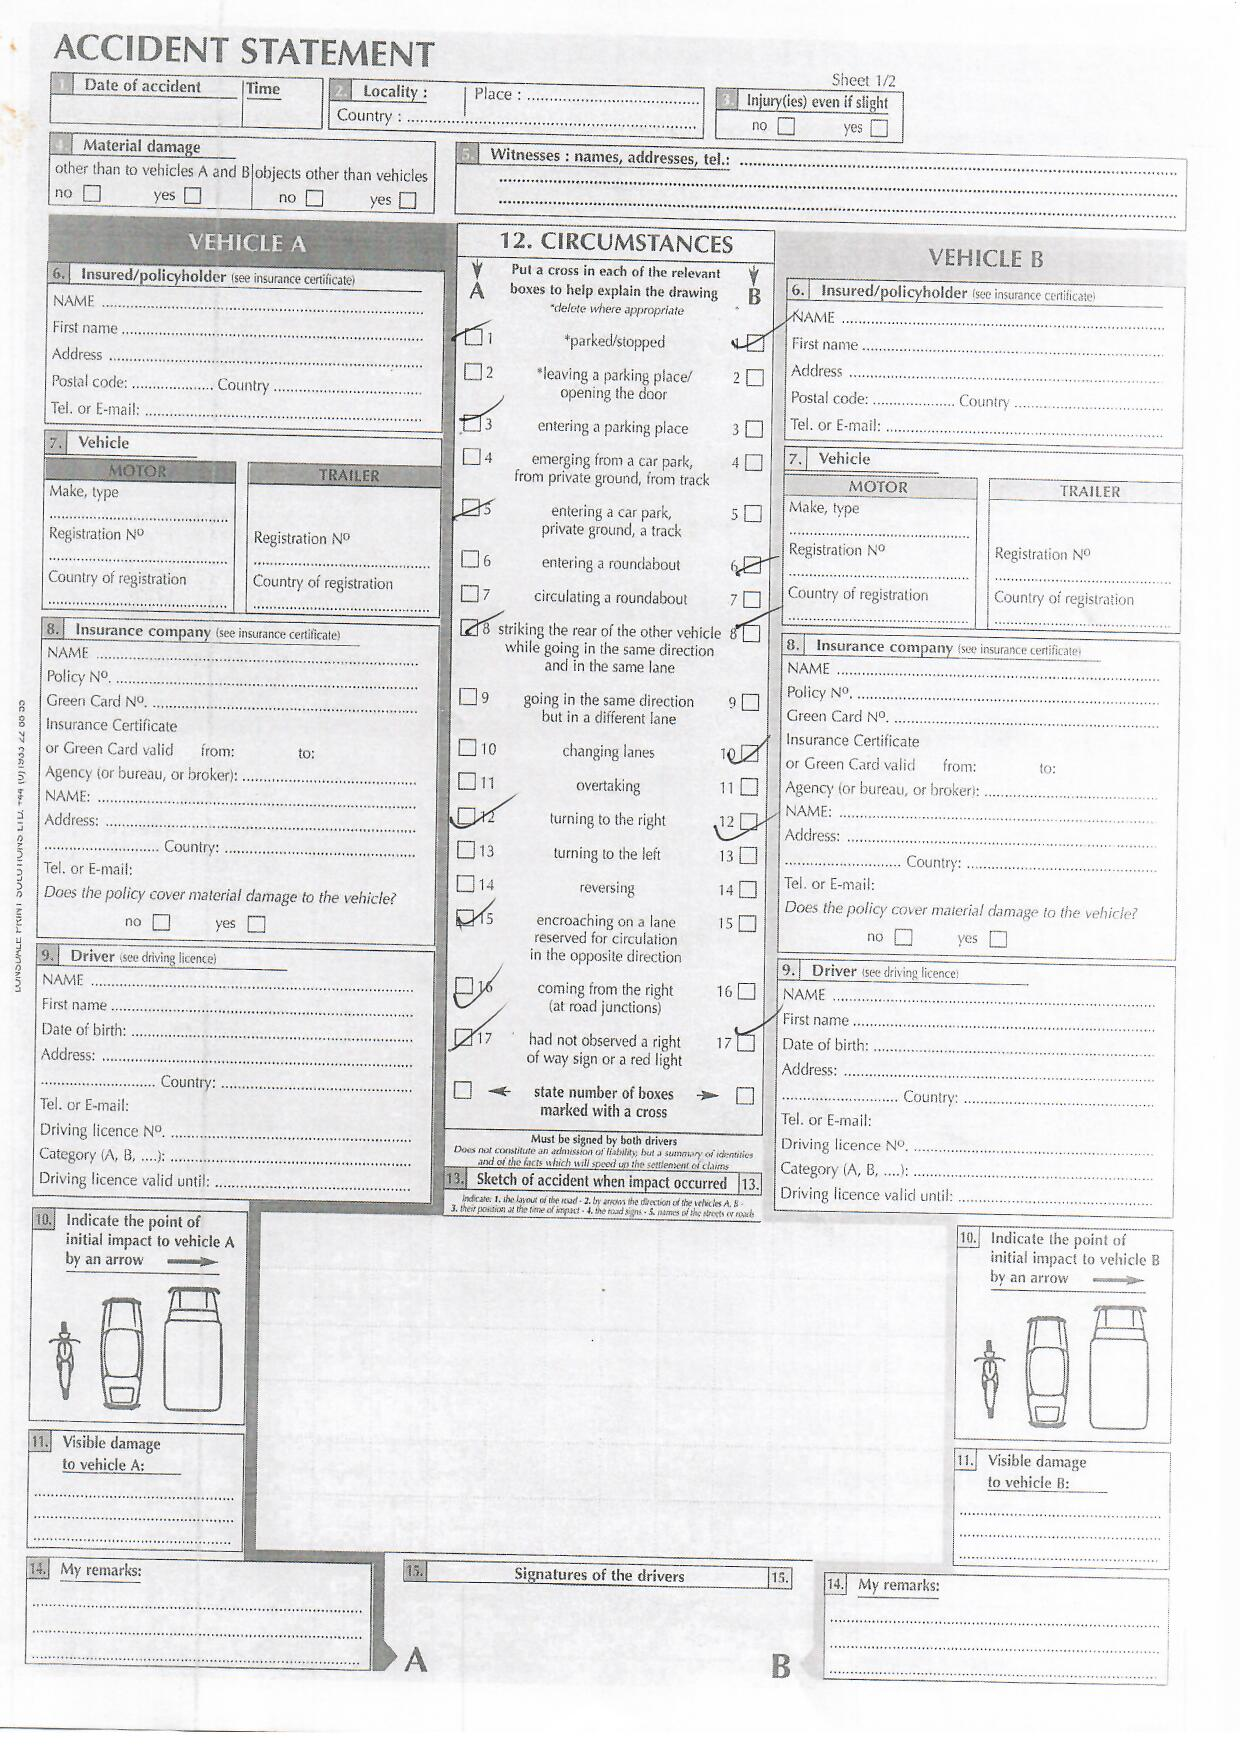a: (731, 1027, 760, 1058), (450, 970, 478, 1001), (737, 617, 764, 650), (458, 493, 486, 522), (458, 613, 484, 642), (451, 1025, 478, 1054), (739, 552, 766, 579), (737, 809, 764, 836), (454, 803, 480, 830), (451, 905, 478, 932), (743, 330, 769, 357), (460, 411, 486, 436), (738, 740, 762, 766), (462, 326, 486, 352)
